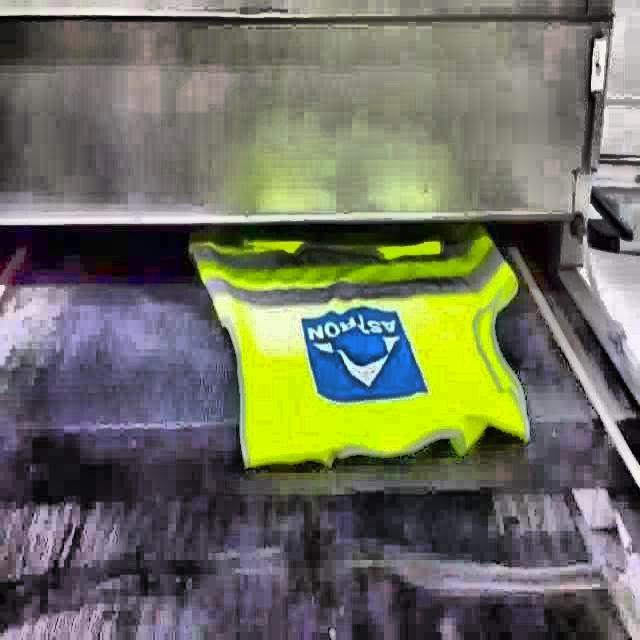safety_jacket: (185, 238, 530, 472)
